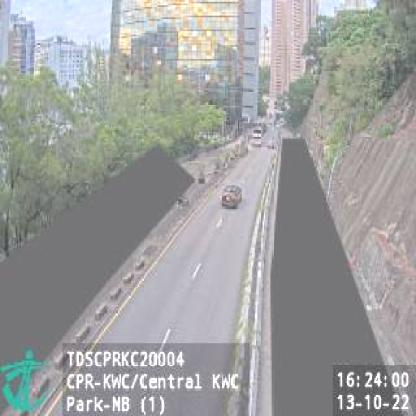Car: (221, 182, 243, 206)
